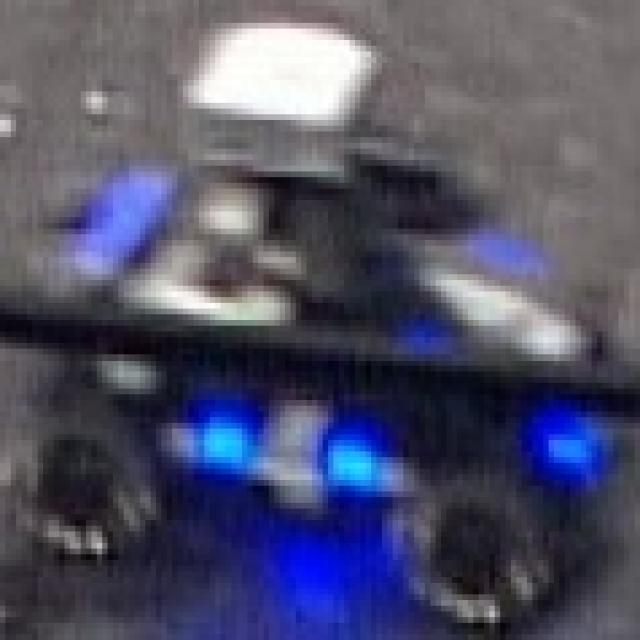B4: (178, 394, 392, 514)
